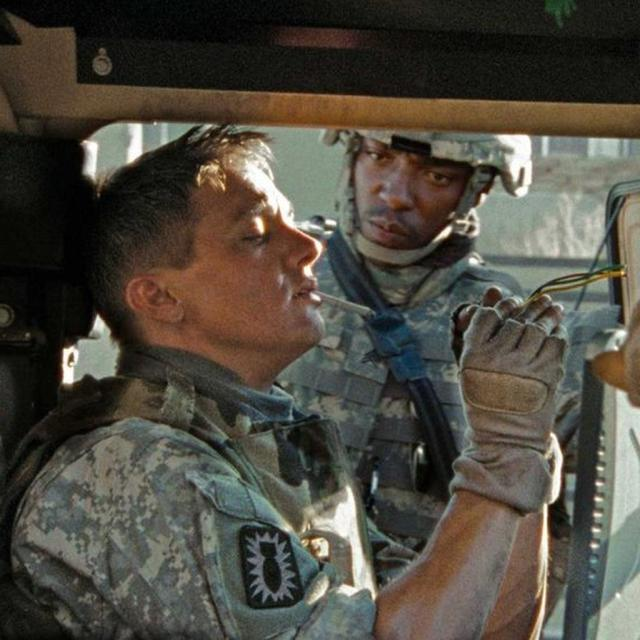smoking: (142, 139, 375, 365)
